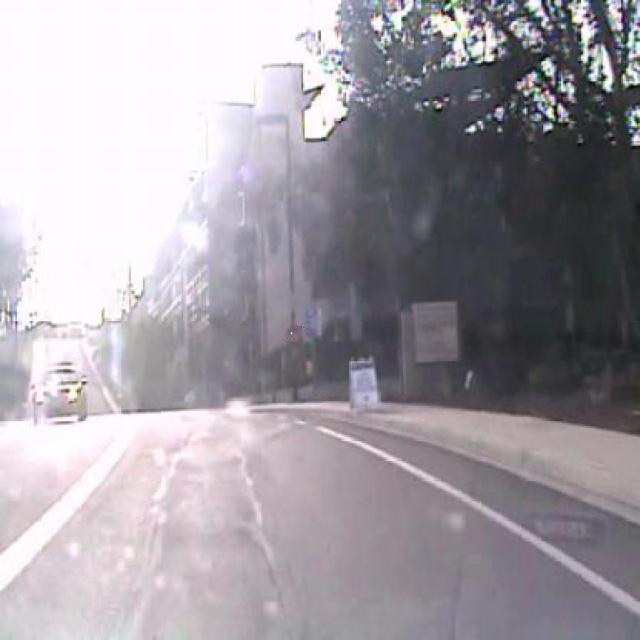stop: (285, 324, 303, 350)
